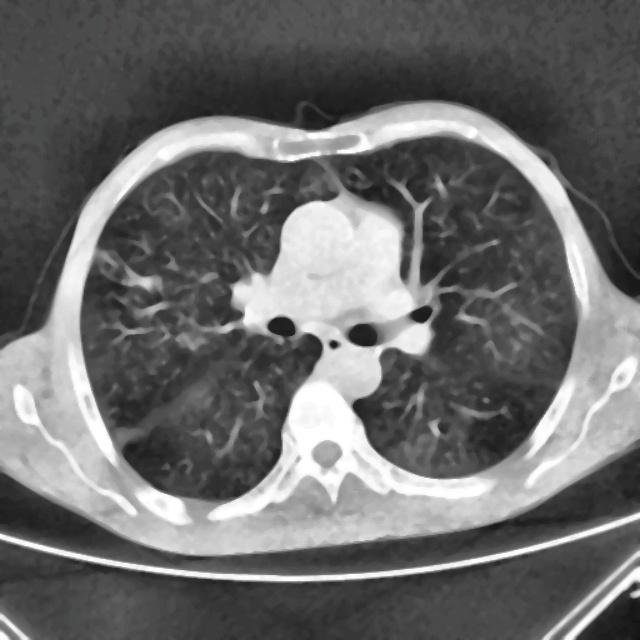covid: (1, 98, 638, 559)
